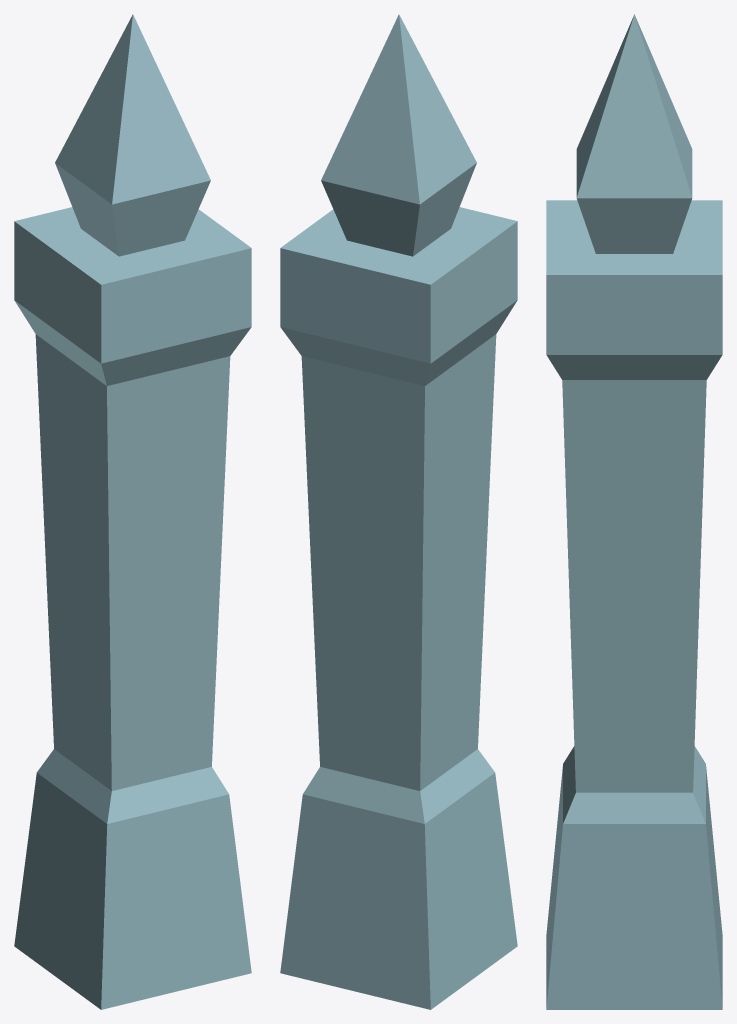
File: d_kenney_borne_ronde.glb
3 renders of one model, left to right at view 1: azimuth 30°, elevation 25°; view 2: azimuth 150°, elevation 25°; view 3: azimuth 270°, elevation 25°, orthographic.
Parts seen in each view (by area): view 1: d_kenney_borne_ronde; view 2: d_kenney_borne_ronde; view 3: d_kenney_borne_ronde.
Boxes of the visible parts, box(x1,y1,x2,y2) form: d_kenney_borne_ronde: box(14, 14, 251, 1009); d_kenney_borne_ronde: box(280, 14, 517, 1009); d_kenney_borne_ronde: box(546, 14, 722, 1009).
Size of the model in its own units: 0.1 by 0.6 by 0.1.
1 material, 1 textured.
